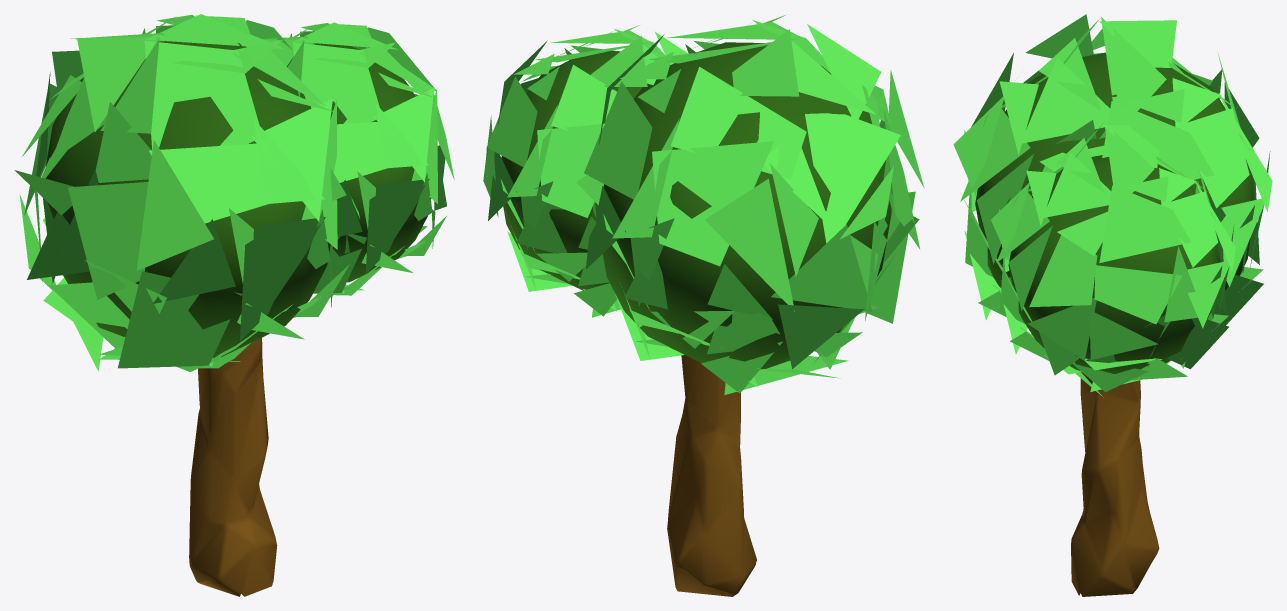
Rendered from ArbolDEFDEF1.fbx.
3 renders of one model, left to right at view 1: azimuth 30°, elevation 25°; view 2: azimuth 150°, elevation 25°; view 3: azimuth 270°, elevation 25°, orthographic. The views are drawn at different scales.
Visible parts, largest first — view 1: tree1DEF001; view 2: tree1DEF001; view 3: tree1DEF001.
Boxes of the visible parts, x1,y1,x2,y2 form: tree1DEF001: [14, 14, 454, 596]; tree1DEF001: [483, 15, 924, 596]; tree1DEF001: [953, 14, 1272, 596].
Size of the model in its own units: 262 by 373 by 202.
